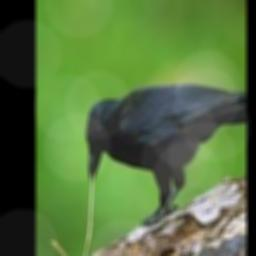Crow: (85, 82, 246, 227)
